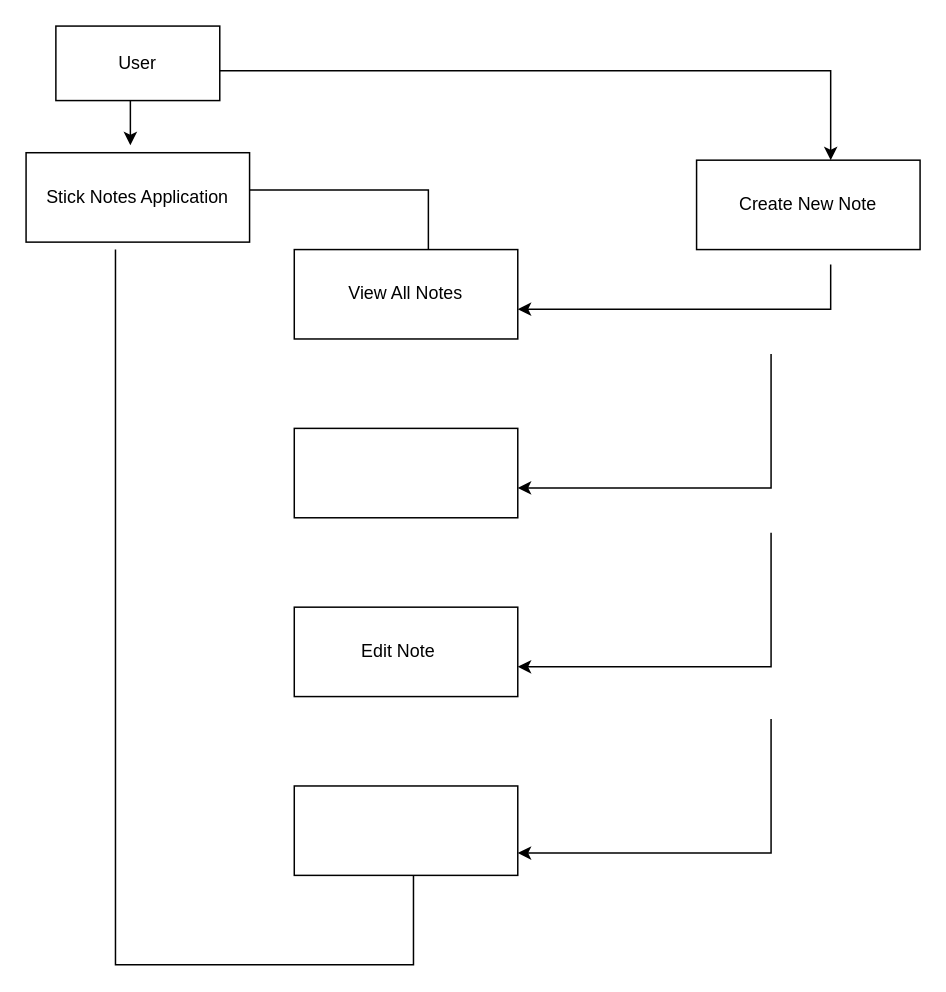
This 946x992 diagram has some shape labels left out. The shapes that lost their labels are listed below. From the top down, each one's centre as x and y in pixels, then its label:
[405,472]: View Note Details
[405,829]: Delete Note
